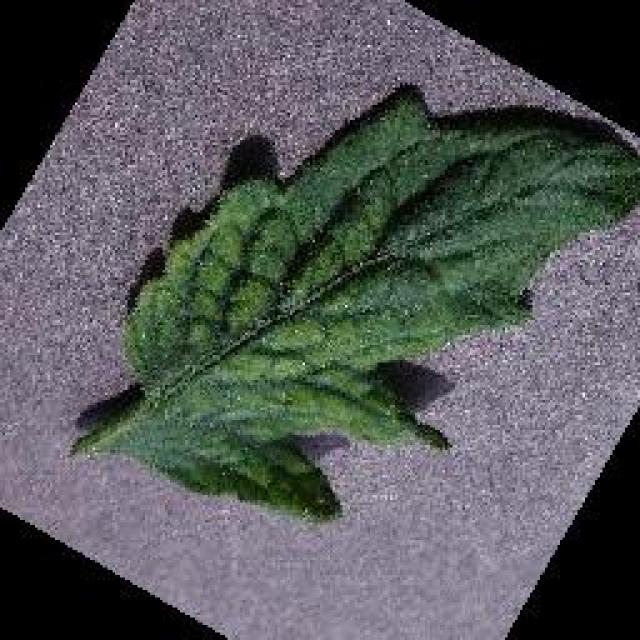Tomato___Tomato_mosaic_virus: (72, 88, 638, 518)
